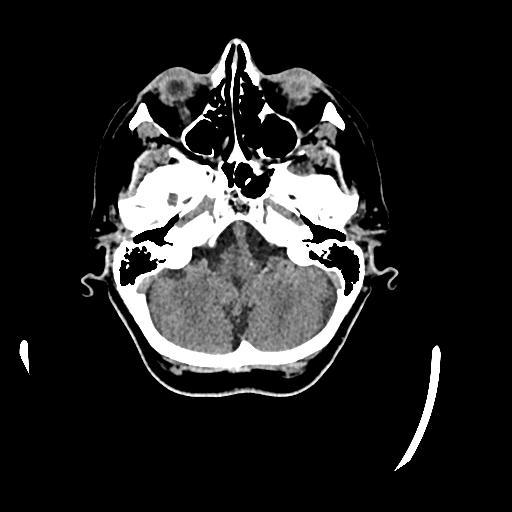Normal_Brain: (73, 29, 391, 412)
